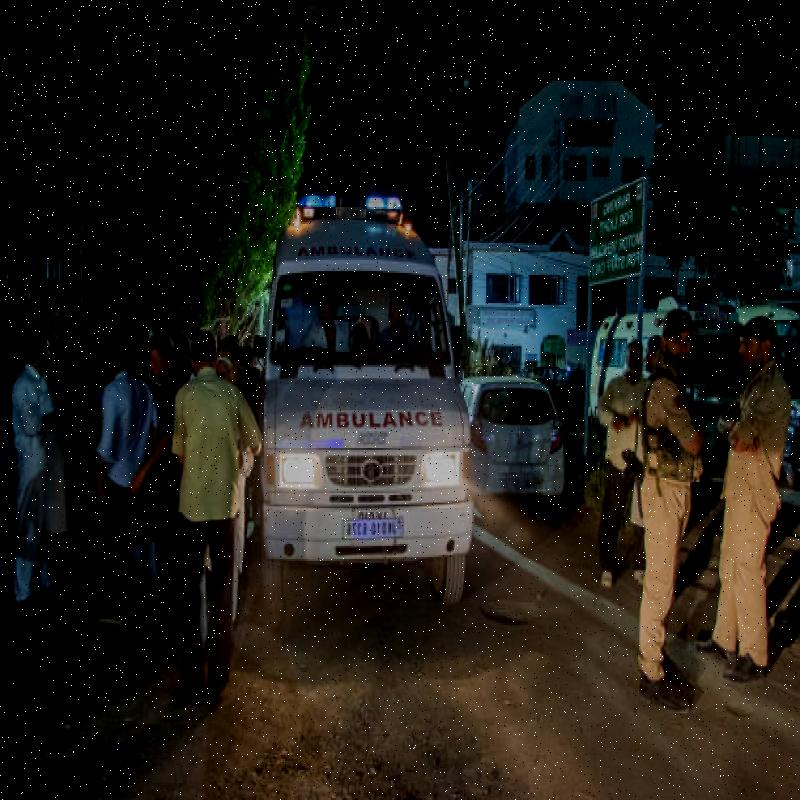ambulance: (251, 160, 474, 629)
